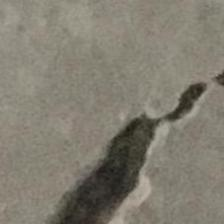Crack: (31, 50, 224, 223)
